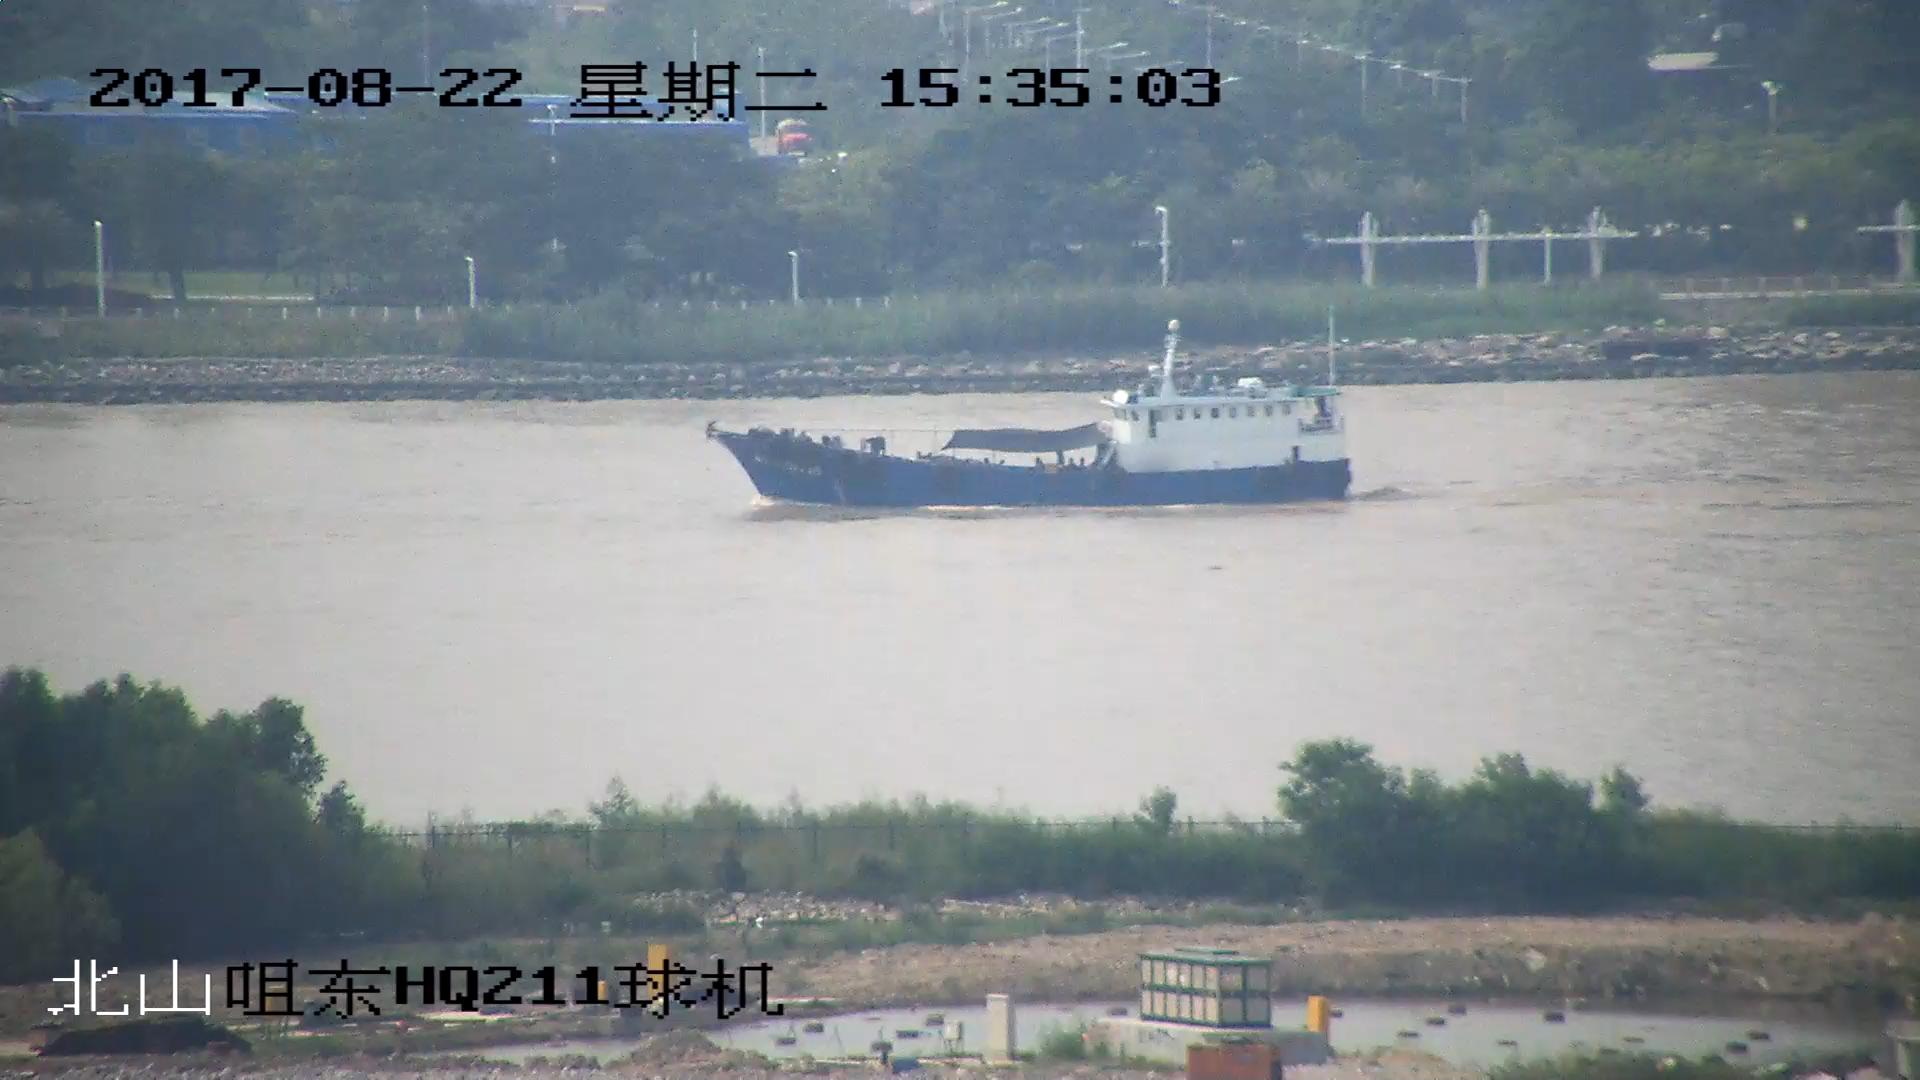fishing boat: (713, 317, 1349, 512)
